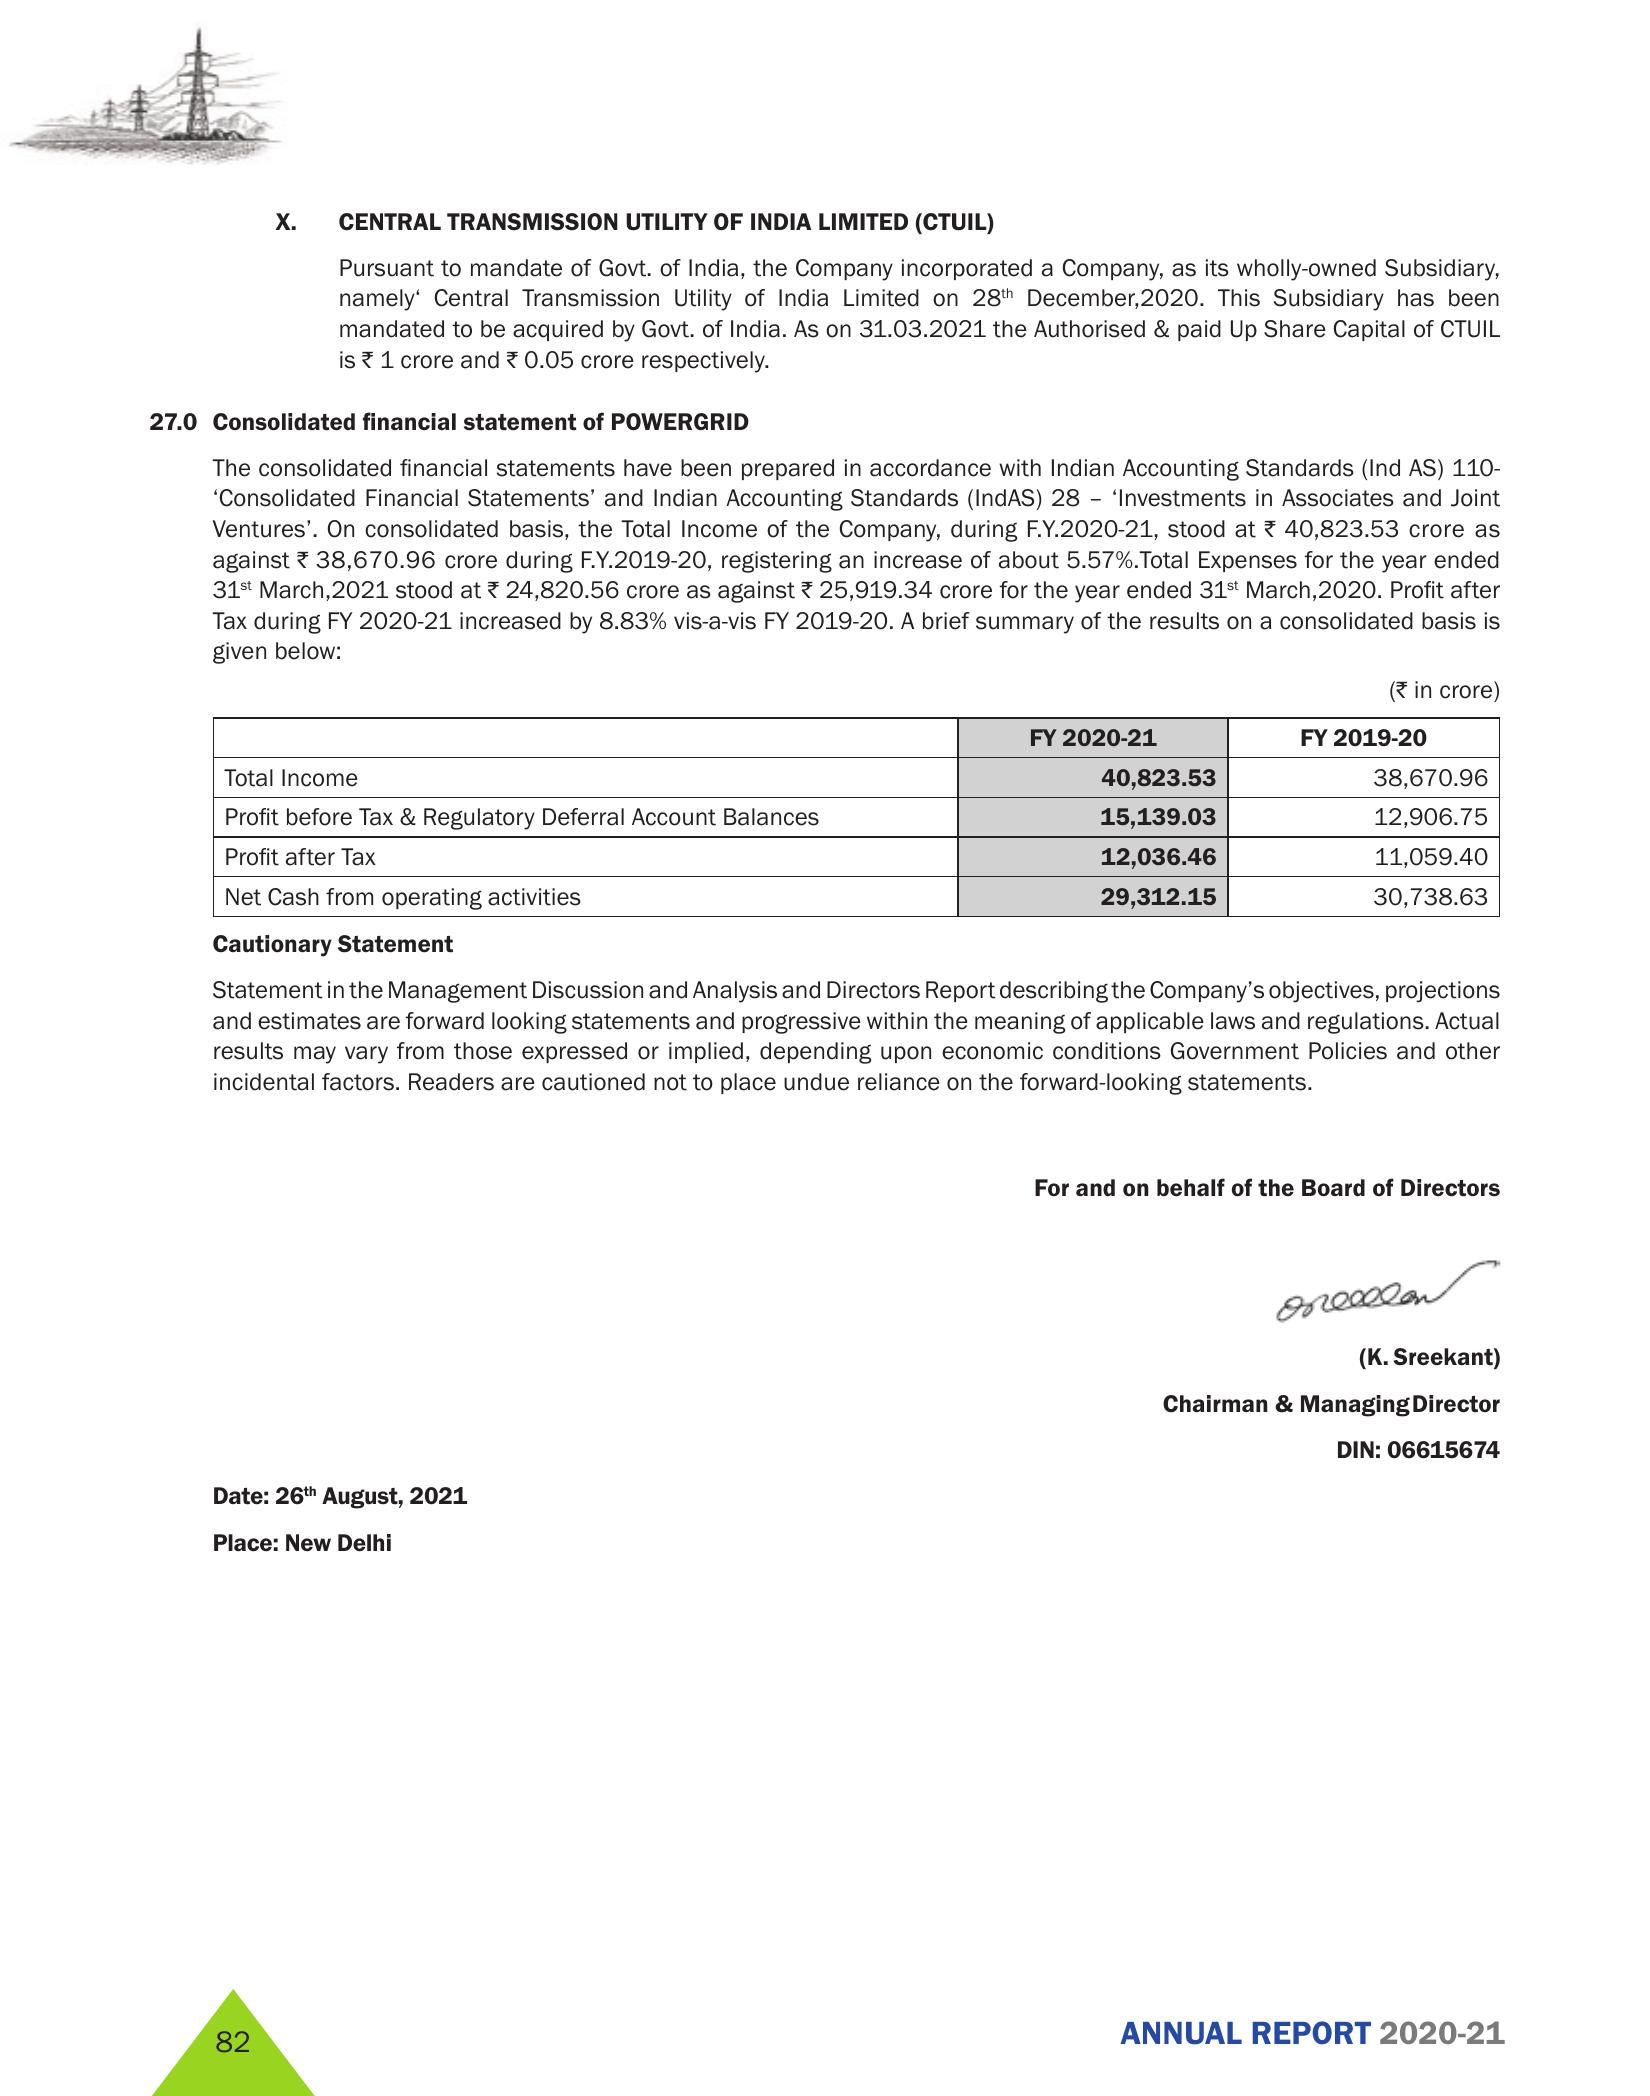Footer: (0, 1965, 1650, 2096)
Header: (0, 0, 1650, 175)
Table: (134, 674, 1516, 965)
